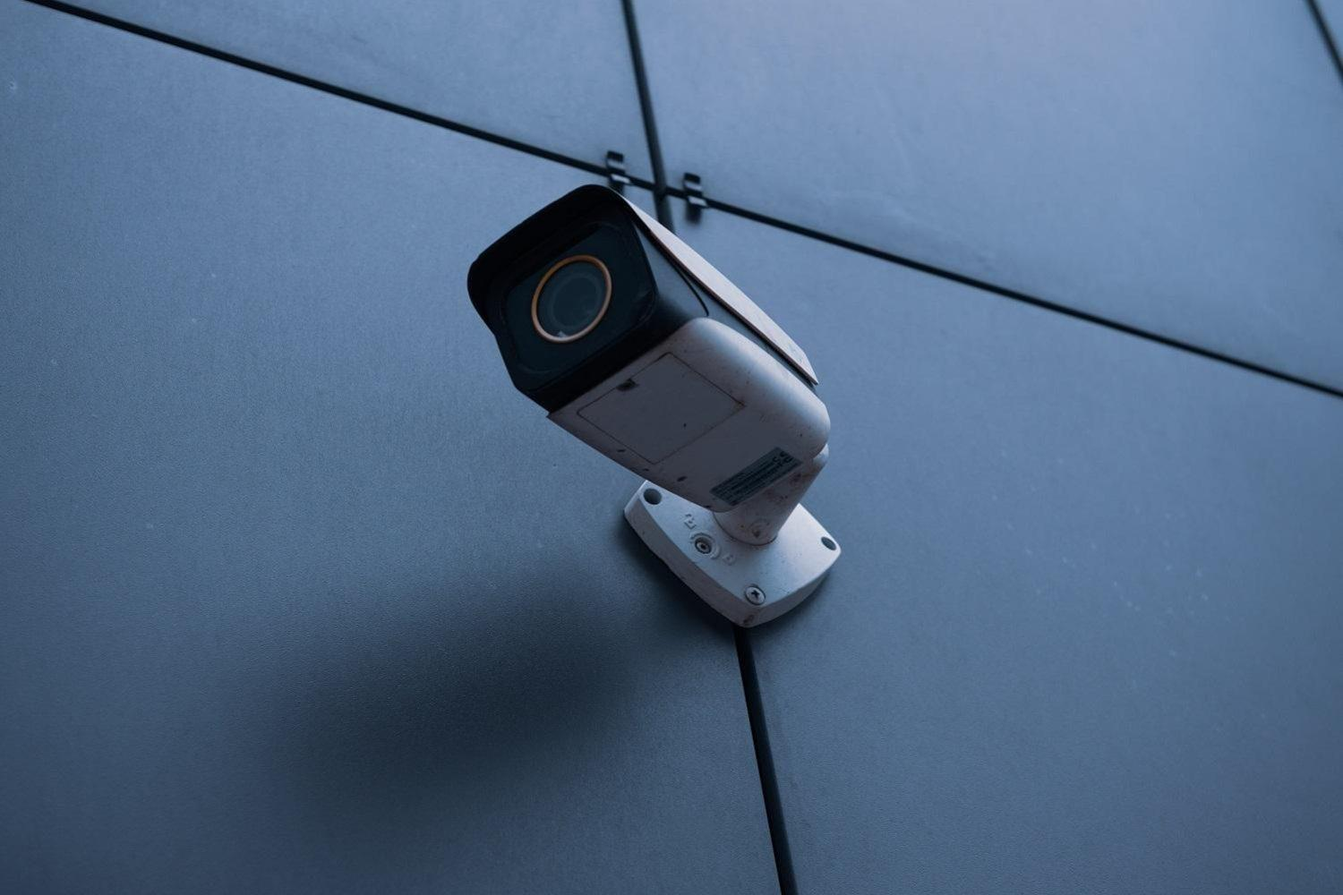camera: (401, 150, 916, 600)
